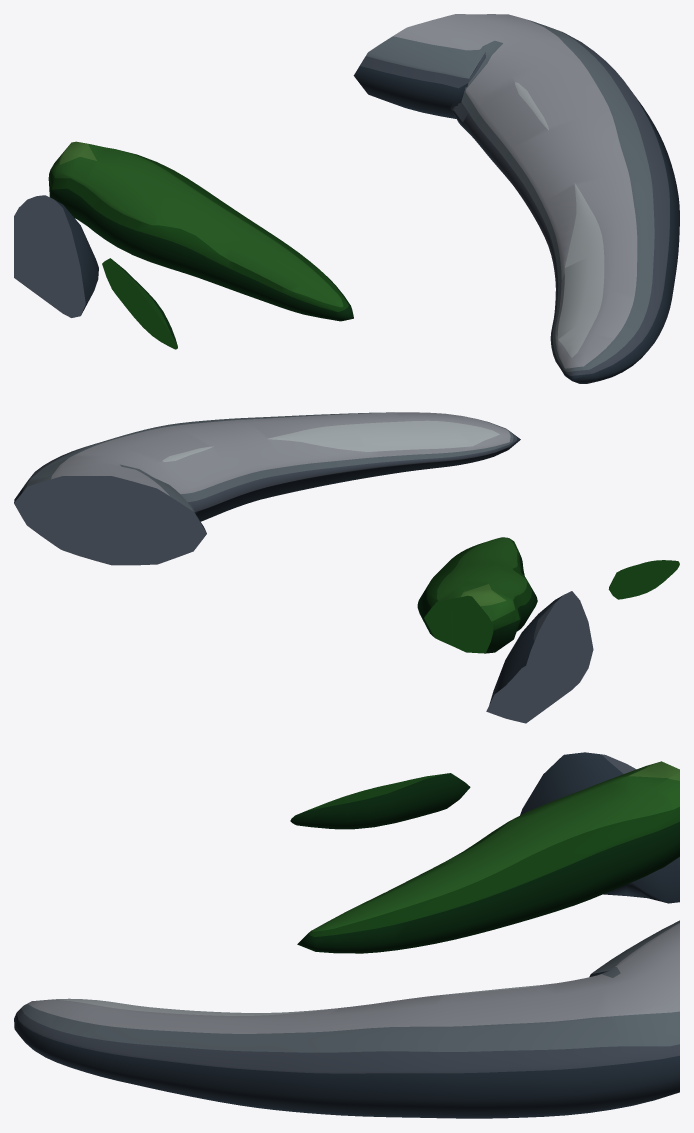
The model's file is torm_beetle_br.glb.
The picture shows the model from 3 angles, top to bottom: view 1: azimuth 30°, elevation 25°; view 2: azimuth 150°, elevation 25°; view 3: azimuth 270°, elevation 25°; orthographic projection. The views are drawn at different scales.
Parts seen in each view (by area): view 1: torm_beetle_br; view 2: torm_beetle_br; view 3: torm_beetle_br.
Part boxes in pixels (x1,y1,x2,y2): torm_beetle_br: (14, 14, 679, 383); torm_beetle_br: (14, 412, 679, 723); torm_beetle_br: (14, 752, 679, 1118).
Size of the model in its own units: 21.7 by 5.77 by 18.77.
